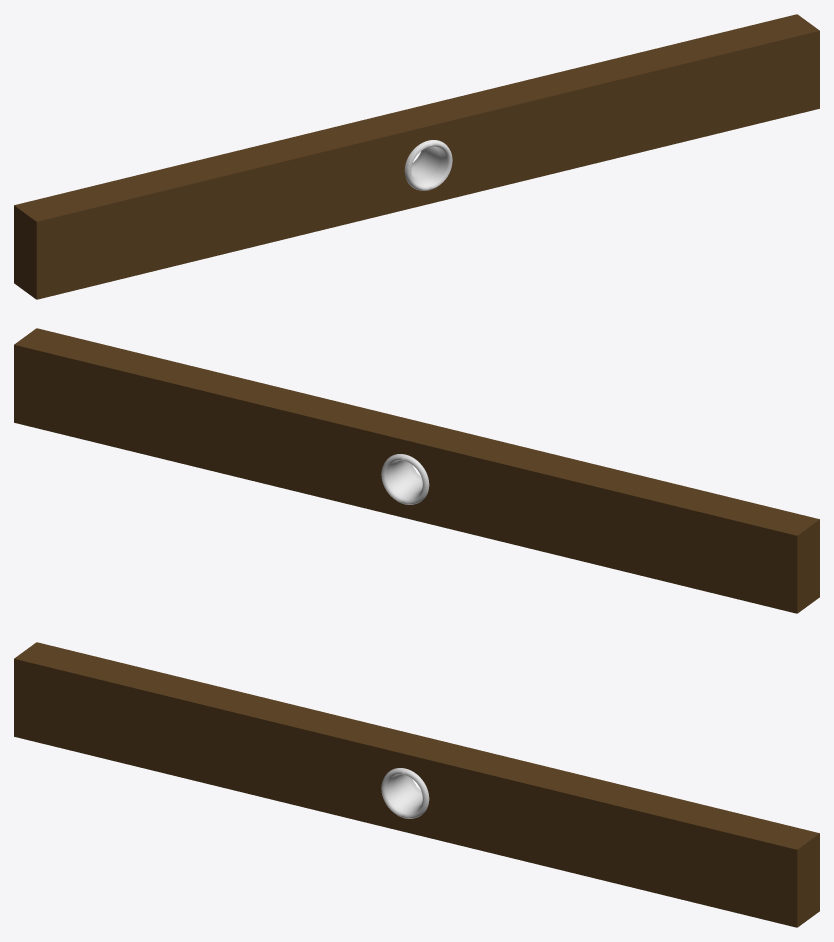
File: WallSouth.glb
3 renders of one model, top to bottom at view 1: azimuth 30°, elevation 25°; view 2: azimuth 150°, elevation 25°; view 3: azimuth 330°, elevation 25°, orthographic.
Visible parts, largest first — view 1: Cube; view 2: Cube; view 3: Cube.
Boxes of the visible parts, bbox=[...] form: Cube: bbox=[14, 14, 819, 299]; Cube: bbox=[14, 328, 819, 613]; Cube: bbox=[14, 642, 819, 927].
Bounding box in the file's own units: 37.9 × 3.61 × 2.39.
